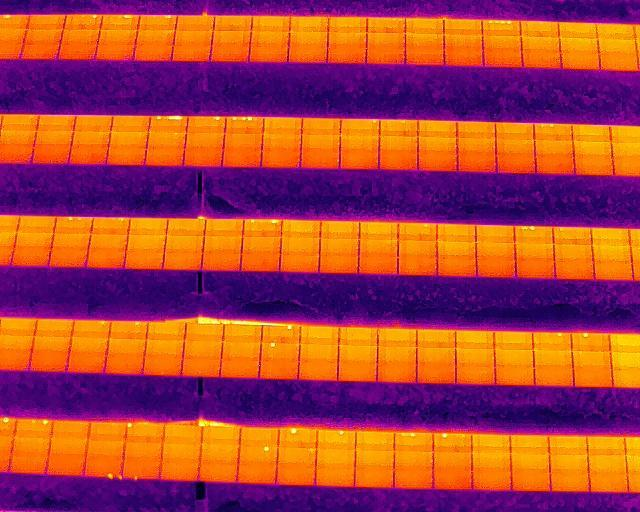Cell: (123, 455, 162, 479), (238, 444, 278, 464), (261, 342, 299, 362), (534, 333, 572, 351), (571, 334, 611, 351), (92, 217, 130, 234), (262, 326, 300, 343), (341, 120, 380, 136), (126, 423, 165, 439), (187, 116, 225, 132), (138, 15, 177, 30), (317, 429, 356, 444), (101, 15, 139, 30), (279, 429, 317, 444), (433, 433, 471, 447), (65, 15, 102, 29)
Cell-Multi: (84, 455, 123, 478), (515, 226, 554, 244), (16, 420, 53, 438), (243, 219, 282, 236), (534, 124, 572, 141), (55, 217, 93, 234), (394, 431, 433, 447), (225, 117, 263, 133), (483, 21, 521, 36)
No-Anomaly: (354, 465, 394, 489), (160, 456, 199, 480), (394, 467, 433, 491), (354, 445, 394, 468), (316, 464, 355, 487), (472, 452, 512, 474), (199, 459, 239, 481), (433, 468, 472, 490), (30, 144, 71, 164), (46, 455, 87, 475), (588, 454, 627, 475), (550, 454, 589, 475), (67, 144, 107, 164), (200, 439, 240, 459), (589, 473, 629, 493), (301, 150, 340, 170), (549, 435, 588, 455), (587, 436, 626, 456), (511, 455, 550, 475), (472, 472, 511, 492), (515, 260, 556, 279), (161, 439, 202, 458), (433, 448, 474, 467), (68, 354, 106, 374), (220, 359, 260, 378), (260, 361, 300, 380), (394, 447, 434, 466), (239, 464, 279, 483), (512, 473, 552, 492), (418, 154, 457, 173), (203, 236, 242, 255), (438, 257, 477, 276), (105, 355, 144, 374), (495, 366, 534, 385), (534, 368, 573, 387), (472, 434, 511, 453), (510, 436, 549, 455), (278, 444, 317, 463), (316, 445, 355, 464), (574, 368, 611, 388), (10, 248, 51, 266), (340, 136, 378, 155), (575, 156, 613, 175), (339, 346, 377, 365), (30, 353, 68, 372), (457, 366, 495, 385), (52, 420, 90, 439), (10, 454, 48, 473), (551, 473, 589, 492), (106, 147, 146, 165), (183, 149, 223, 167), (242, 236, 282, 254), (398, 240, 438, 258), (515, 244, 555, 262), (554, 244, 594, 262), (478, 259, 518, 277), (417, 331, 457, 349), (222, 342, 262, 360), (298, 345, 338, 363), (417, 366, 457, 384), (126, 235, 168, 252), (279, 464, 316, 483), (379, 137, 418, 155), (222, 149, 261, 167), (497, 156, 536, 174), (457, 157, 496, 175), (593, 245, 632, 263), (49, 250, 88, 268), (88, 251, 127, 269), (202, 254, 241, 272), (359, 255, 398, 273), (186, 324, 225, 342), (339, 328, 378, 346), (378, 330, 417, 348), (184, 342, 223, 360), (533, 351, 572, 369), (182, 359, 221, 377), (378, 366, 417, 384), (50, 438, 89, 456), (14, 232, 55, 249), (124, 252, 165, 269), (599, 52, 640, 69), (186, 131, 224, 149), (321, 221, 359, 239), (360, 222, 398, 240), (164, 252, 202, 270), (147, 323, 185, 341), (224, 324, 262, 342), (301, 327, 339, 345), (378, 348, 416, 366), (261, 150, 301, 167), (281, 238, 321, 255), (320, 255, 360, 272), (554, 263, 594, 280), (299, 362, 339, 379), (111, 322, 148, 340), (111, 116, 150, 133), (74, 116, 113, 133), (457, 123, 496, 140), (495, 123, 534, 140), (457, 140, 496, 157), (145, 148, 184, 165), (536, 156, 575, 173), (282, 221, 321, 238), (398, 223, 437, 240), (475, 226, 514, 243), (554, 227, 593, 244), (165, 235, 204, 252), (438, 241, 477, 258), (281, 255, 320, 272), (70, 338, 109, 355), (106, 340, 145, 357), (145, 341, 184, 358), (495, 349, 534, 366), (23, 29, 62, 46), (124, 438, 163, 455), (560, 52, 601, 68), (147, 132, 185, 149), (437, 224, 475, 241), (592, 228, 630, 245), (89, 234, 127, 251), (72, 321, 110, 338), (457, 332, 495, 349), (456, 350, 494, 367), (144, 357, 182, 374), (135, 46, 173, 63), (241, 255, 281, 271), (399, 258, 439, 274), (594, 264, 634, 280), (338, 365, 378, 381), (86, 439, 126, 455), (249, 47, 289, 63), (522, 52, 562, 68), (379, 120, 418, 136), (418, 122, 457, 138), (224, 134, 263, 150), (418, 138, 457, 154), (496, 141, 535, 157), (129, 218, 168, 234), (205, 219, 244, 235), (166, 220, 205, 236), (359, 240, 398, 256), (406, 18, 445, 34), (444, 20, 483, 36), (597, 24, 636, 40), (495, 333, 534, 349), (417, 349, 456, 365), (357, 431, 396, 447), (96, 44, 135, 60), (289, 47, 328, 63), (328, 48, 367, 64), (367, 48, 406, 64), (36, 321, 72, 338), (559, 22, 597, 38), (33, 338, 71, 354), (573, 351, 611, 367), (137, 30, 175, 46), (13, 438, 51, 454), (173, 45, 211, 61), (211, 46, 249, 62), (109, 132, 149, 147), (444, 51, 484, 66), (484, 51, 524, 66), (53, 234, 90, 250), (89, 422, 126, 438), (263, 120, 302, 135), (71, 132, 110, 147), (262, 135, 301, 150), (535, 141, 574, 156), (340, 155, 379, 170), (378, 155, 417, 170), (17, 216, 56, 231), (290, 17, 329, 32), (329, 18, 368, 33), (320, 239, 359, 254), (476, 243, 515, 258), (521, 22, 560, 37), (290, 32, 329, 47), (328, 32, 367, 47), (367, 33, 406, 48), (406, 35, 445, 50), (444, 35, 483, 50), (483, 36, 522, 51), (240, 428, 279, 443), (521, 36, 560, 51), (37, 116, 75, 131), (302, 119, 340, 134), (573, 126, 611, 141), (27, 15, 65, 30), (214, 16, 252, 31), (252, 16, 290, 31), (368, 18, 406, 33), (62, 29, 100, 44), (98, 30, 136, 45), (58, 45, 96, 60), (407, 49, 445, 64), (560, 38, 600, 52), (177, 16, 214, 31), (34, 131, 73, 145), (301, 135, 340, 149), (175, 31, 214, 45), (212, 31, 251, 45), (252, 32, 291, 46), (164, 426, 203, 440), (202, 427, 241, 441), (22, 46, 58, 61), (573, 141, 611, 155), (598, 39, 637, 52)
Unclassified: (149, 116, 188, 132)
